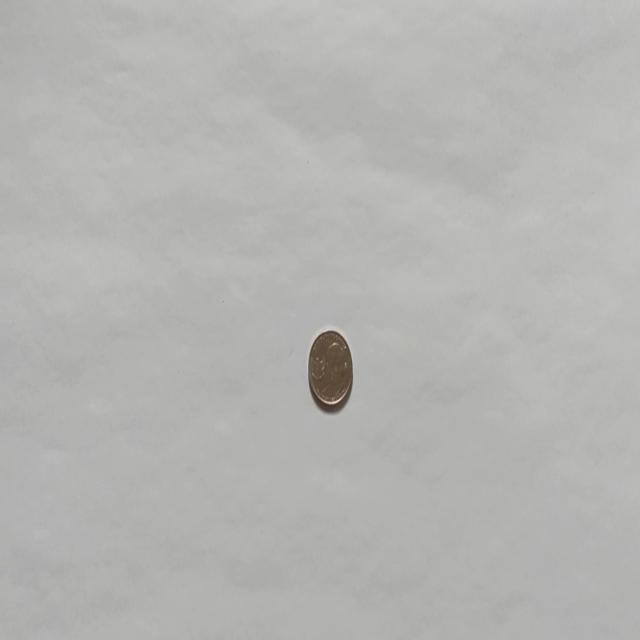seribu rupiah koin: (306, 328, 354, 410)
